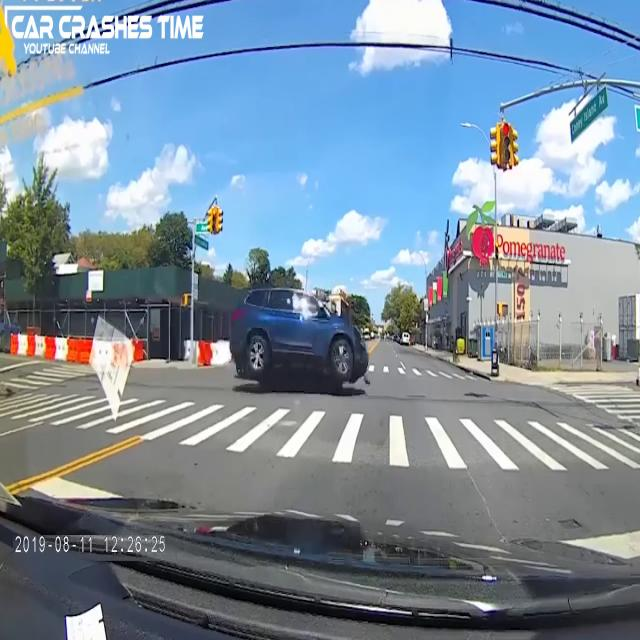accident: (229, 278, 373, 394)
